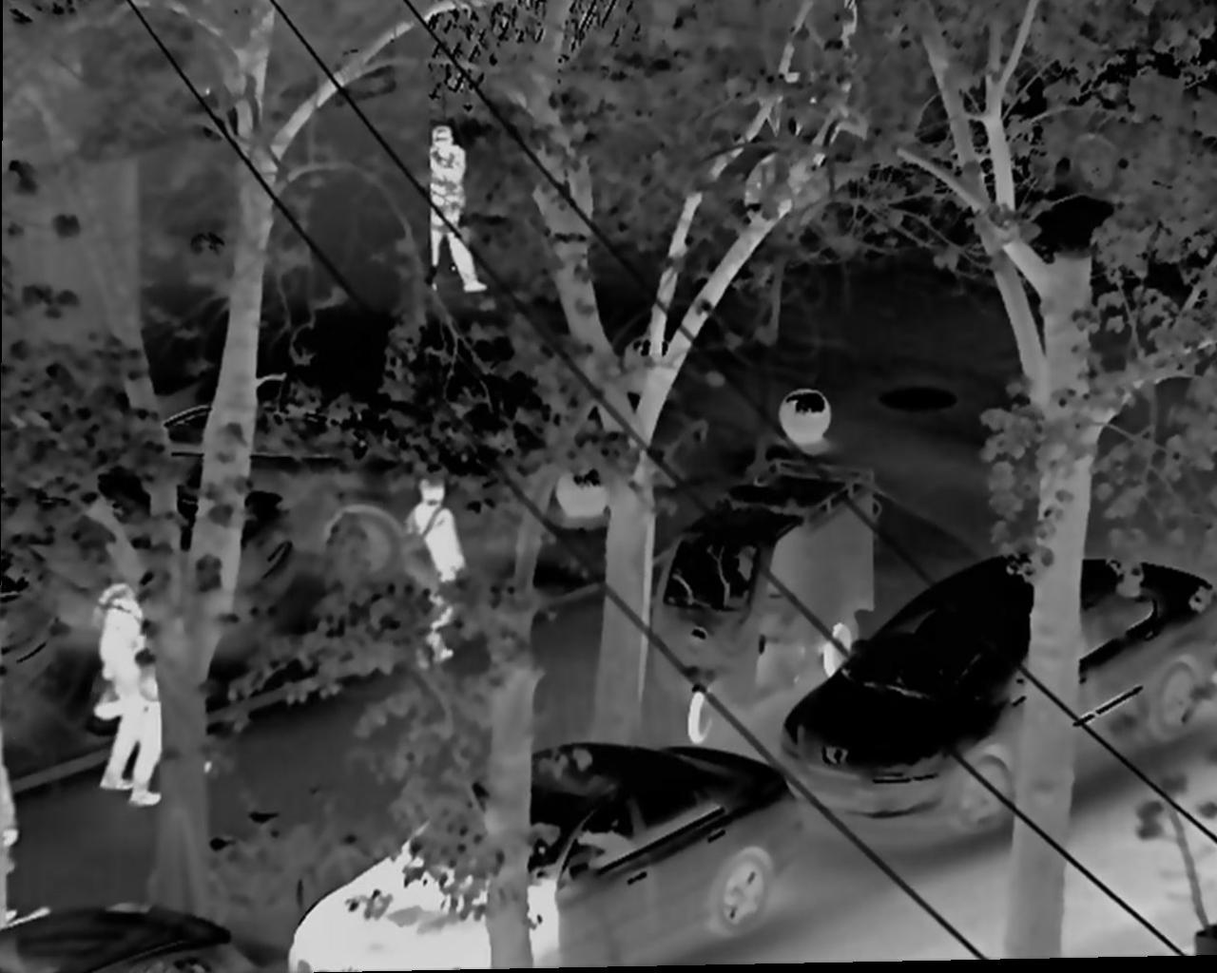person: (78, 579, 173, 817), (402, 475, 474, 668), (418, 112, 491, 294)
